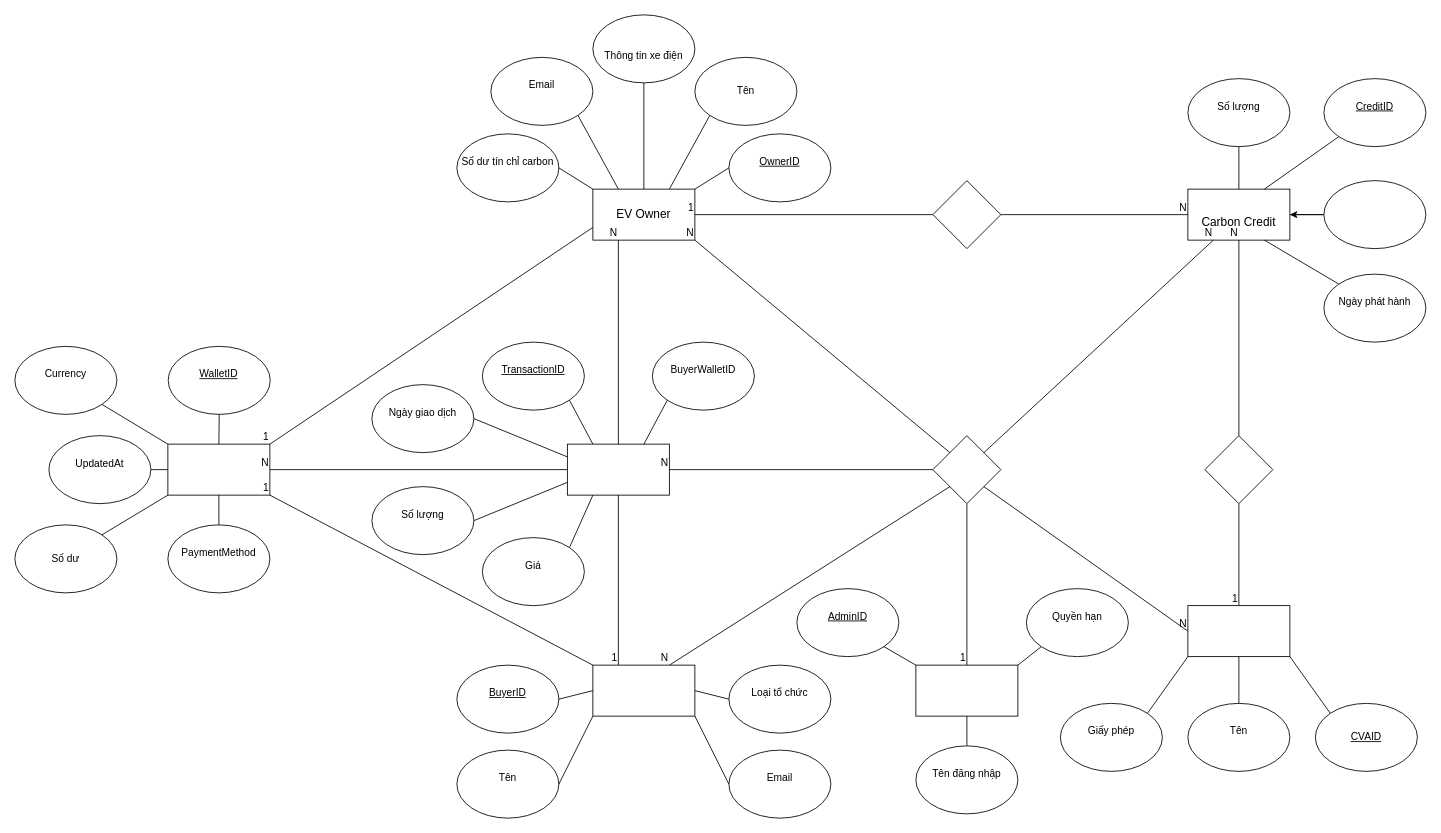
Image size: 1441x833. Some labels were removed from this diagram. The shapes that lost their labels are listed below. From the top down, each one's centre as x and y in pixels, then its label:
At (x=966, y=214): "Generate Credits".
At (x=1374, y=214): "Ngày hết hạn".
At (x=218, y=469): "Wallet".
At (x=618, y=469): "Transaction".
At (x=966, y=469): "Manage System".
At (x=1238, y=469): "Verify Credits".
At (x=1238, y=631): "CVA".
At (x=643, y=690): "CC Buyer".
At (x=966, y=690): "Admin".
